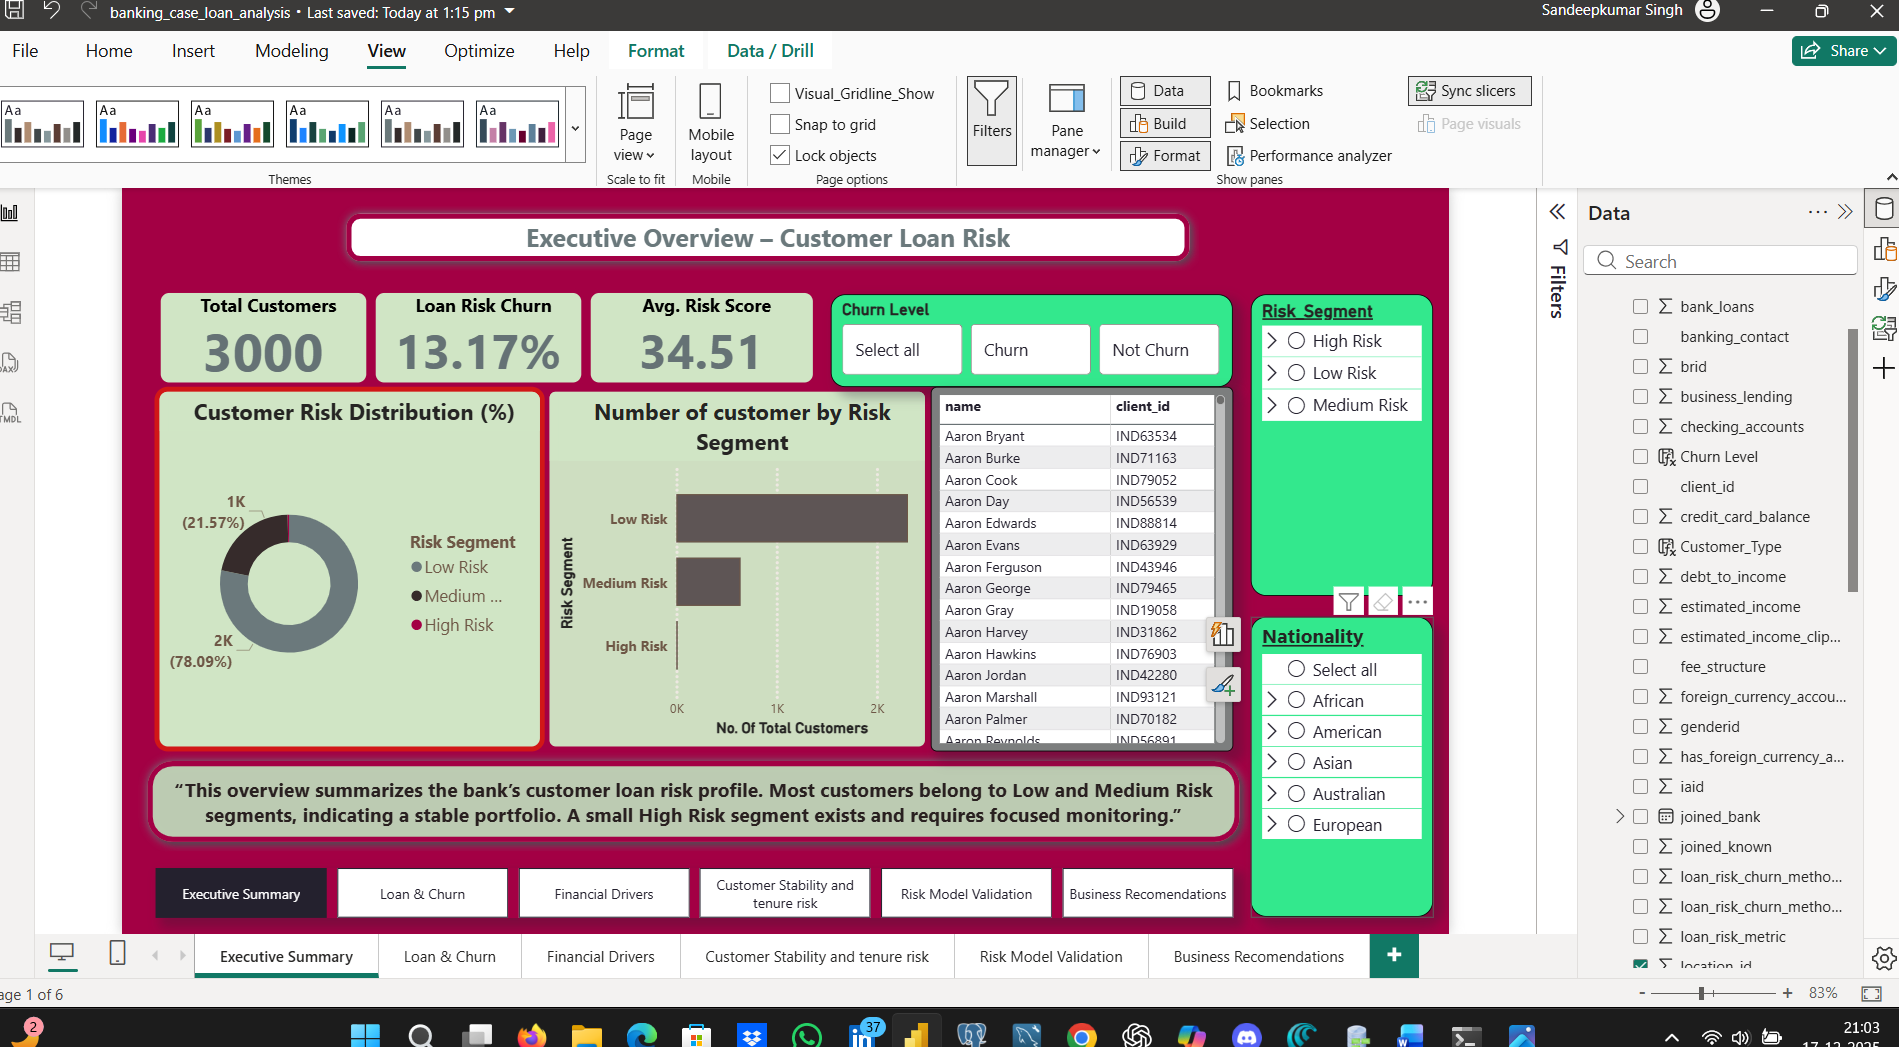

This screenshot's page, from the dashboard's own definition file:
{"tool":"powerbi","page":{"name":"Executive Summary","canvas":[1280,720],"ordinal":0},"visuals":[{"type":"card","title":"Total Customers","fields":{"Values":["CountNonNull(banking_case customers_cleaned.client_id)"]},"box":[32,96,208,96],"z":0},{"type":"card","title":"Loan Risk Churn","fields":{"Values":["Measures (2).Loan Risk Churn %"]},"box":[240,96,208,96],"z":1000},{"type":"card","title":"Avg. Risk Score","fields":{"Values":["Measures (2).Average Risk Score"]},"box":[448,96,224,96],"z":2000},{"type":"donutChart","title":"Customer Risk Distribution (%)","fields":{"Category":["banking_case customers_risk_agg.risk_segment_final"],"Y":["Measures (2).Total Customers"]},"box":[31.7,191.9,376.6,352],"z":3000},{"type":"clusteredBarChart","title":"Number of customer by Risk Segment","fields":{"Category":["banking_case customers_risk_agg.risk_segment_final"],"Y":["Measures (2).Total Customers"]},"box":[408.3,191.9,372.2,352],"z":4000},{"type":"shape","box":[16,544,1072,96],"z":5000},{"type":"shape","box":[208,16,832,64],"z":6000},{"type":"pageNavigator","box":[32,656,1040,48],"z":7000},{"type":"listSlicer","title":"Risk_Segment","fields":{"Values":["banking_case customers_risk_agg.risk_segment_final","banking_case customers_cleaned.client_id"]},"box":[1089.3,102.4,176,291.4],"z":8000},{"type":"advancedSlicerVisual","fields":{"Values":["banking_case customers_cleaned.Churn Level"]},"box":[683.9,102.4,388.1,89.5],"z":9000},{"type":"listSlicer","title":"Nationality","fields":{"Values":["banking_case customers_cleaned.nationality","banking_case customers_cleaned.location_id","banking_case customers_cleaned.name"]},"box":[1089.3,414.1,176,290],"z":10000},{"type":"tableEx","fields":{"Values":["banking_case customers_cleaned.name","banking_case customers_cleaned.client_id"]},"box":[780,192,292,352],"z":10001}]}

Visuals, with their boxes on the page's 1280x720 design canvas (x1, y1, x2, y2). These are canvas units, not pixel positions in the 1899x1047 screenshot, which may show the page scaled, cropped or inside an application window:
"Total Customers" card: x1=32 y1=96 x2=240 y2=192
"Loan Risk Churn" card: x1=240 y1=96 x2=448 y2=192
"Avg. Risk Score" card: x1=448 y1=96 x2=672 y2=192
"Customer Risk Distribution (%)" donutChart: x1=32 y1=192 x2=408 y2=544
"Number of customer by Risk Segment" clusteredBarChart: x1=408 y1=192 x2=780 y2=544
shape: x1=16 y1=544 x2=1088 y2=640
shape: x1=208 y1=16 x2=1040 y2=80
pageNavigator: x1=32 y1=656 x2=1072 y2=704
"Risk_Segment" listSlicer: x1=1089 y1=102 x2=1265 y2=394
advancedSlicerVisual - banking_case customers_cleaned.Churn Level: x1=684 y1=102 x2=1072 y2=192
"Nationality" listSlicer: x1=1089 y1=414 x2=1265 y2=704
tableEx - banking_case customers_cleaned.name x banking_case customers_cleaned.client_id: x1=780 y1=192 x2=1072 y2=544
